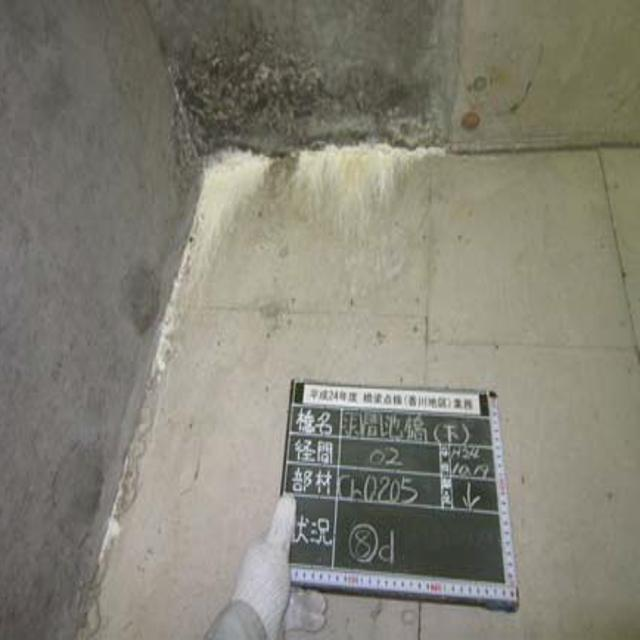freelime: (140, 100, 436, 241)
